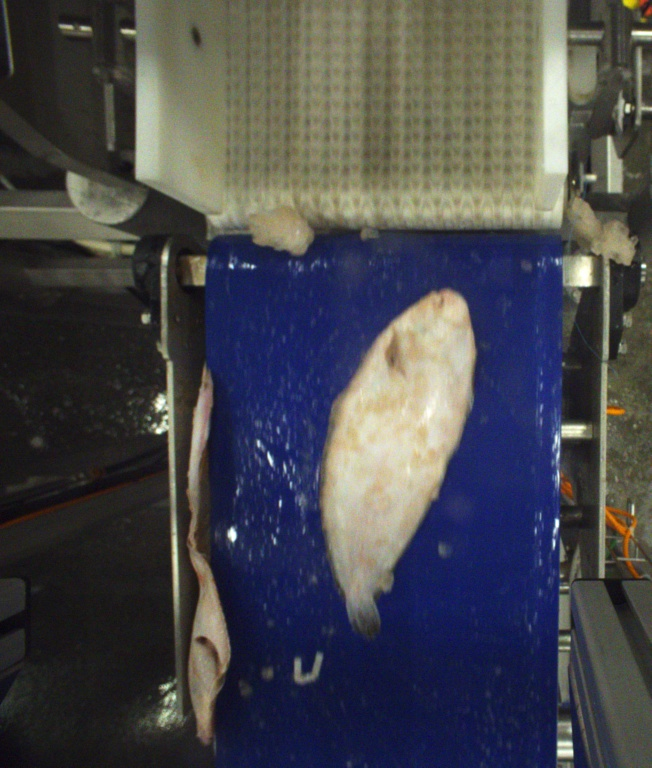SOL: (321, 288, 474, 636)
